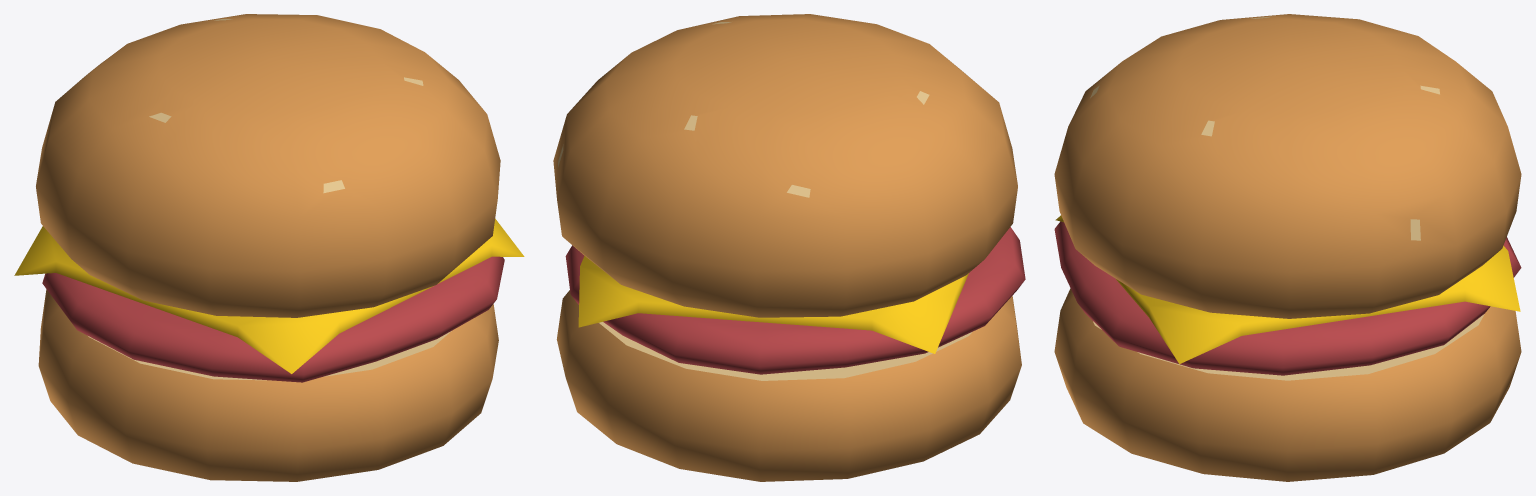
Rendered from hamburguesa.glb.
3 renders of one model, left to right at view 1: azimuth 30°, elevation 25°; view 2: azimuth 150°, elevation 25°; view 3: azimuth 270°, elevation 25°, orthographic.
Parts seen in each view (by area): view 1: pan_hamburguesa_arriba, pan_hamburguesa_abajo, pieza_carne, pieza_queso; view 2: pan_hamburguesa_arriba, pan_hamburguesa_abajo, pieza_carne, pieza_queso; view 3: pan_hamburguesa_arriba, pan_hamburguesa_abajo, pieza_carne, pieza_queso.
Part boxes in pixels (x1,y1,x2,y2): pan_hamburguesa_arriba: (36, 14, 500, 317); pan_hamburguesa_abajo: (38, 289, 498, 481); pieza_carne: (42, 256, 504, 382); pieza_queso: (14, 218, 524, 373); pan_hamburguesa_arriba: (553, 14, 1017, 317); pan_hamburguesa_abajo: (556, 290, 1021, 481); pieza_carne: (565, 227, 1025, 374); pieza_queso: (578, 256, 968, 353); pan_hamburguesa_arriba: (1054, 14, 1521, 318); pan_hamburguesa_abajo: (1054, 288, 1521, 481); pieza_carne: (1054, 221, 1521, 375); pieza_queso: (1055, 215, 1520, 364).
Bounding box in the file's own units: 0.11 × 0.09 × 0.11.
